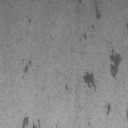red iron: (110, 54, 122, 78), (84, 72, 96, 92), (94, 2, 100, 20), (24, 60, 32, 73), (105, 103, 111, 116), (22, 116, 28, 128), (81, 34, 87, 40), (65, 84, 69, 90), (38, 119, 40, 128)
